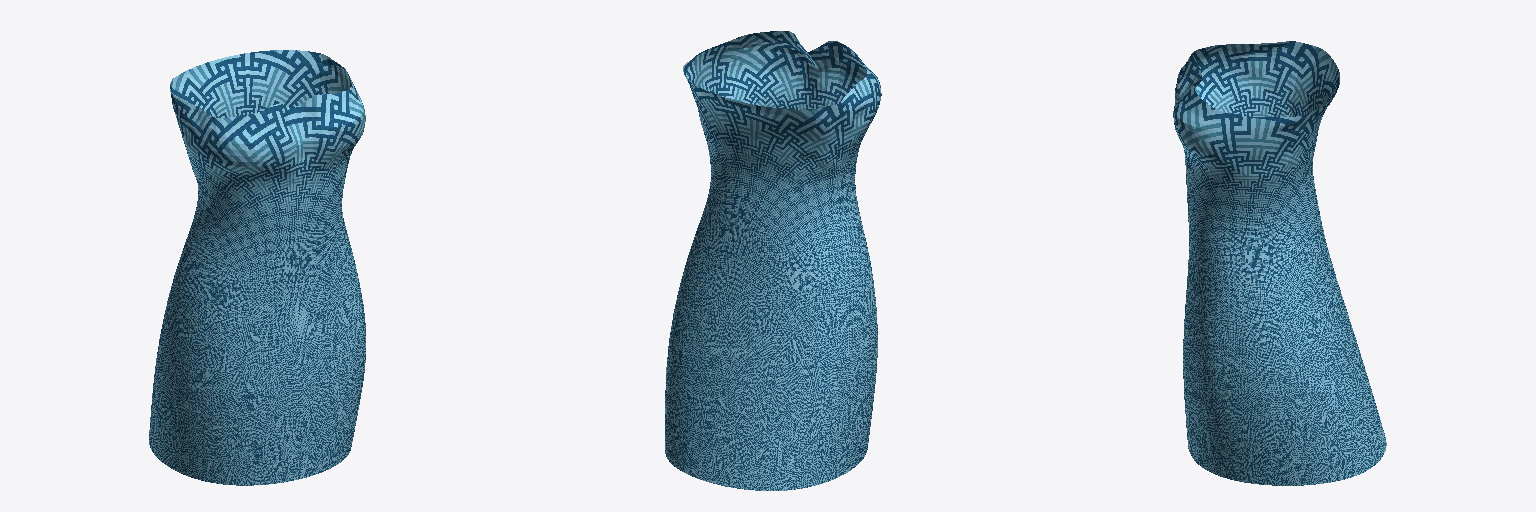
The picture shows the model from 3 angles: view 1: azimuth 30°, elevation 25°; view 2: azimuth 150°, elevation 25°; view 3: azimuth 270°, elevation 25°; orthographic projection.
Parts seen in each view (by area): view 1: Dress_Form.002; view 2: Dress_Form.002; view 3: Dress_Form.002.
Boxes of the visible parts, x1,y1,x2,y2 form: Dress_Form.002: [149, 50, 365, 485]; Dress_Form.002: [665, 31, 881, 490]; Dress_Form.002: [1173, 41, 1386, 485].
Size of the model in its own units: 0.2536 by 0.4956 by 0.2535.
1 materials, 1 textured.